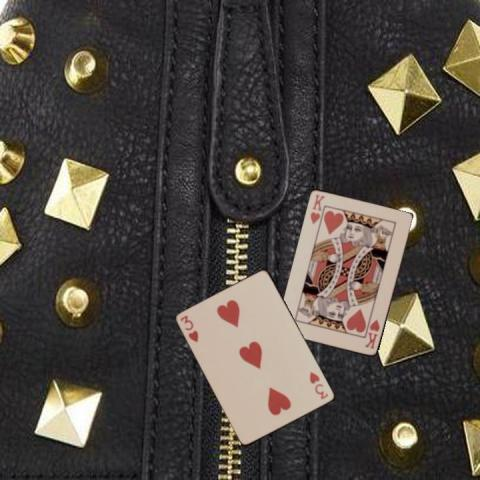3h: (307, 368, 330, 400), (178, 312, 200, 344)
Kh: (307, 192, 327, 225), (362, 316, 381, 350)
